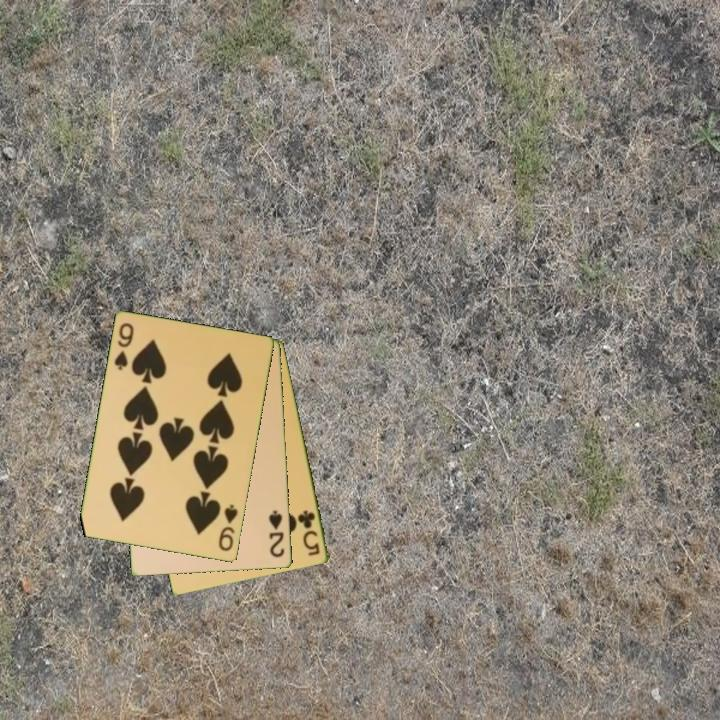2s: (265, 507, 288, 560)
5c: (294, 507, 323, 559)
9s: (215, 501, 241, 554), (111, 320, 137, 373)
